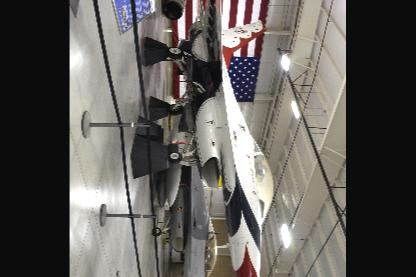A10: (153, 231, 226, 276)
F14: (167, 0, 275, 276), (150, 75, 218, 276)
